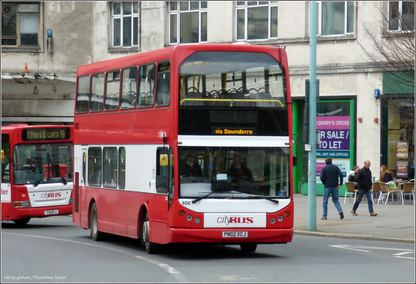bus: (71, 41, 299, 256), (0, 124, 76, 225)
